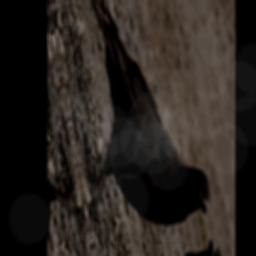Crow: (54, 0, 215, 256)
